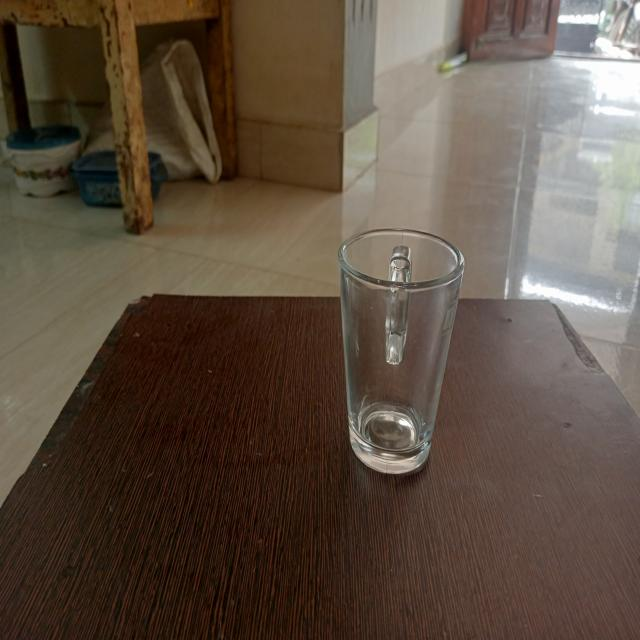glass-VX4N: (333, 220, 468, 481)
